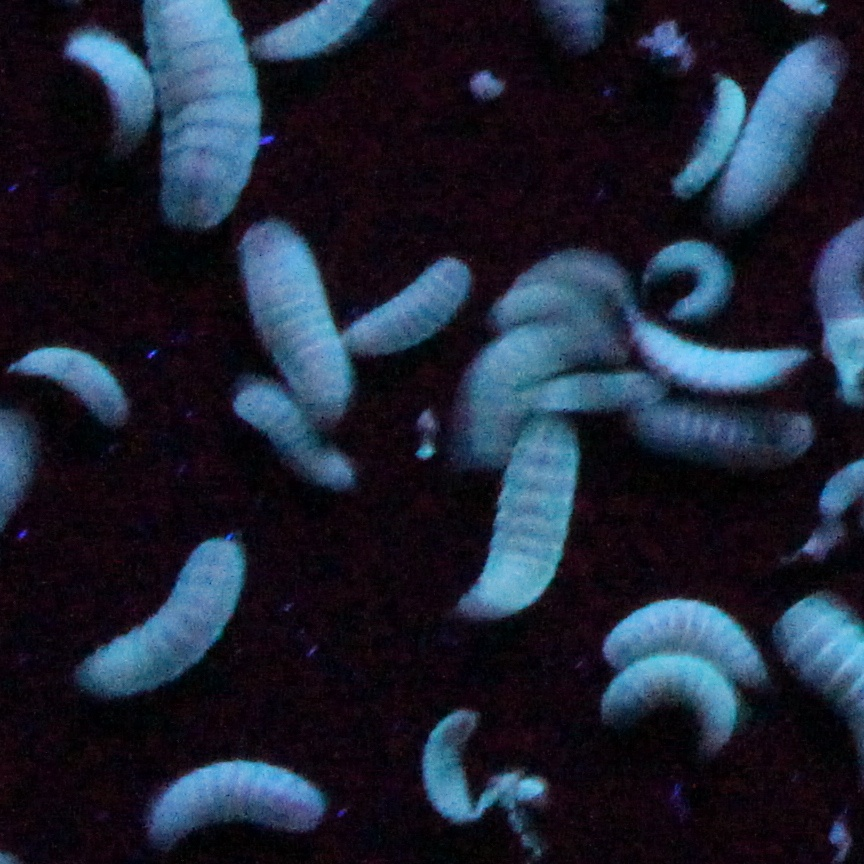larve: (76, 533, 241, 695), (454, 415, 581, 622), (230, 215, 350, 417), (721, 39, 848, 213), (145, 746, 330, 851), (601, 651, 741, 753), (601, 597, 761, 684), (341, 253, 472, 355), (236, 382, 354, 493), (624, 319, 806, 390), (634, 404, 812, 471), (1, 335, 125, 431), (65, 30, 155, 157), (675, 78, 746, 208), (518, 247, 635, 314), (418, 702, 478, 822), (509, 367, 660, 412), (648, 243, 733, 316)
